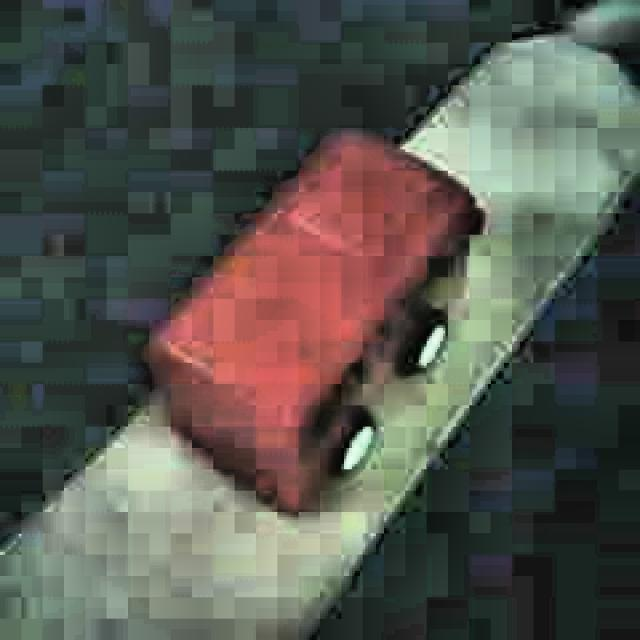bus: (150, 128, 484, 520)
